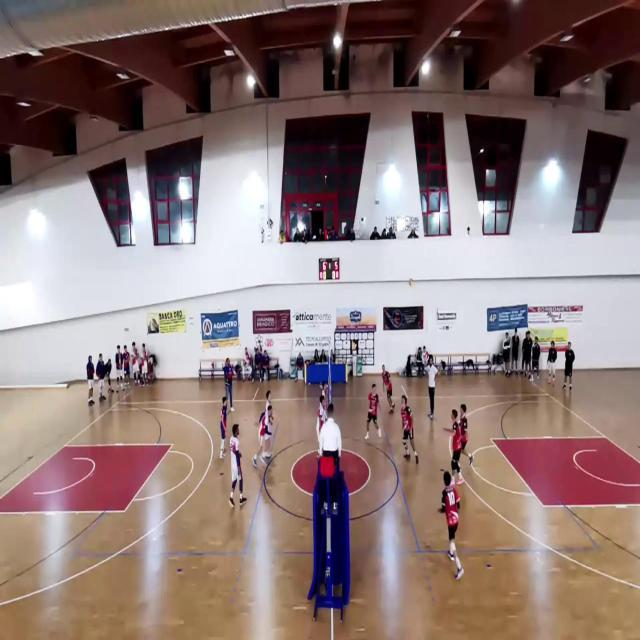volleyball: (409, 278, 415, 288)
